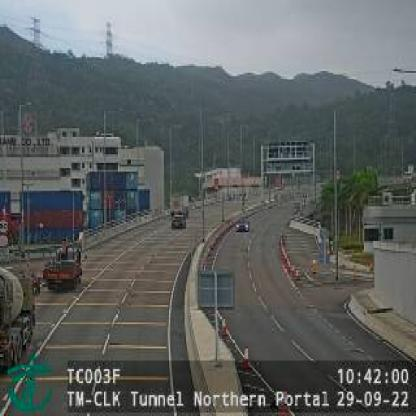Car: (168, 212, 187, 232), (236, 213, 249, 234)
Truck: (0, 258, 36, 369), (43, 235, 82, 294), (167, 192, 188, 214)
